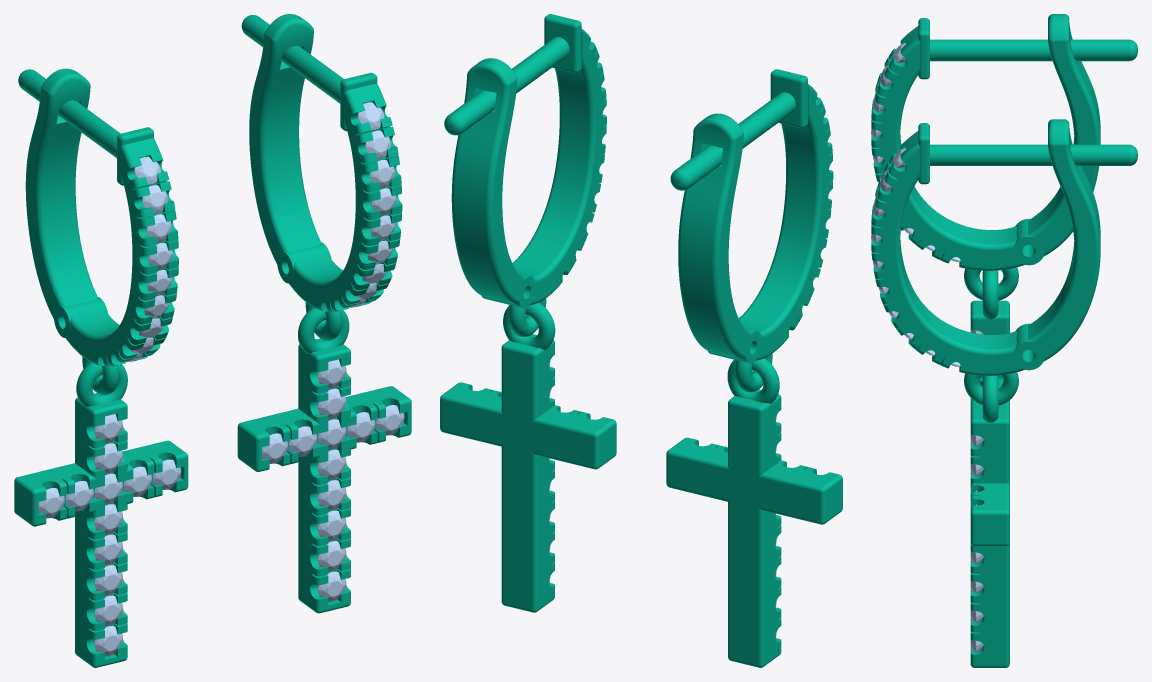
The picture shows the model from 3 angles, left to right: view 1: azimuth 30°, elevation 25°; view 2: azimuth 150°, elevation 25°; view 3: azimuth 270°, elevation 25°; orthographic projection. The views are drawn at different scales.
Visible parts, largest first — view 1: VEAR165(front).3dm, Diamond_Round (×7); view 2: VEAR165(front).3dm; view 3: VEAR165(front).3dm.
Boxes of the visible parts, x1,y1,x2,y2 form: VEAR165(front).3dm: (14,14,411,667); Diamond_Round (×7): (65,412,375,571); VEAR165(front).3dm: (440,14,842,667); VEAR165(front).3dm: (871,14,1137,667).
Size of the model in its own units: 2.17 by 3.06 by 1.37.
